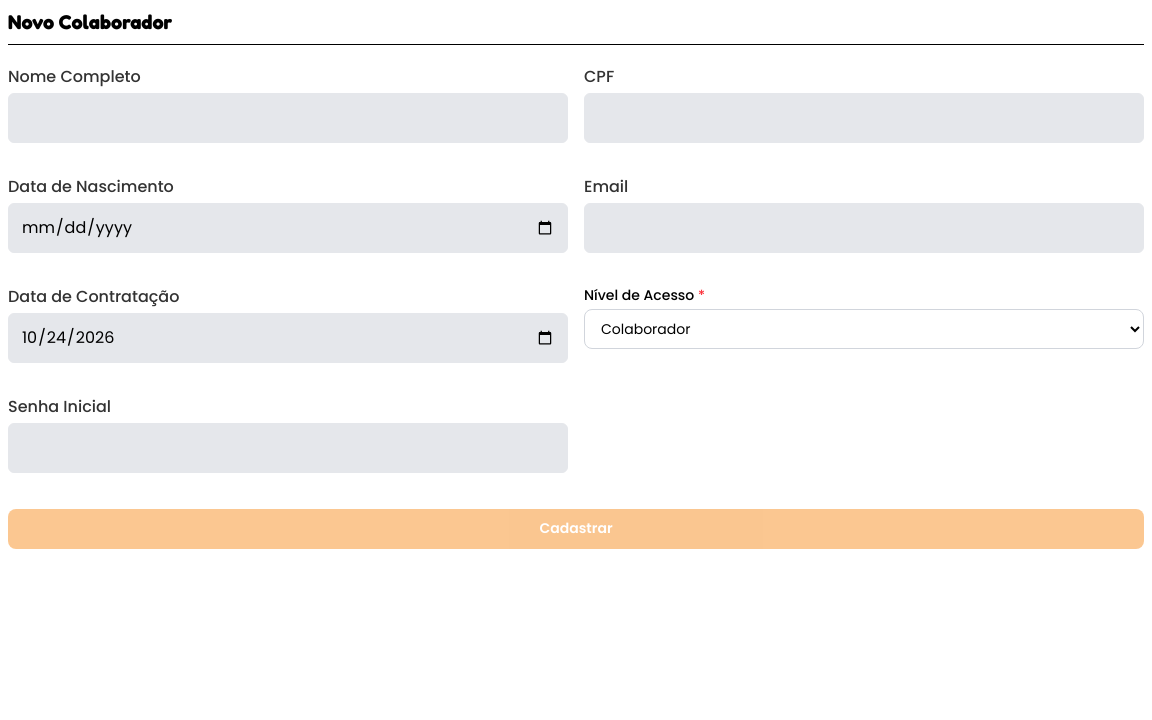
Test: CreateCoord (novo colaborador) › erro do back aparece como notificação e não fecha o formulário
The width and height of the screenshot is (1152, 720).
Type "Ana Maria Souza" into the field labelled "Nome Completo". click: (288, 118)
box: x1=8 y1=93 x2=568 y2=143
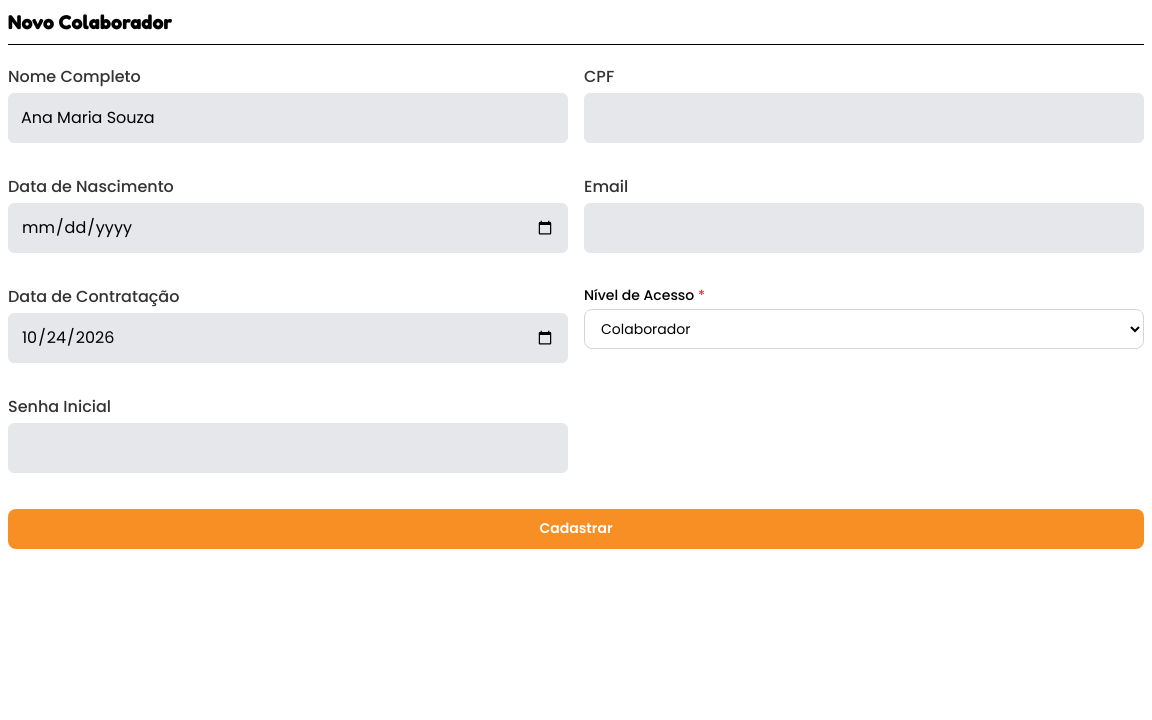
Type "123.456.789-01" into the field labelled "CPF". click: (864, 118)
box: x1=584 y1=93 x2=1144 y2=143
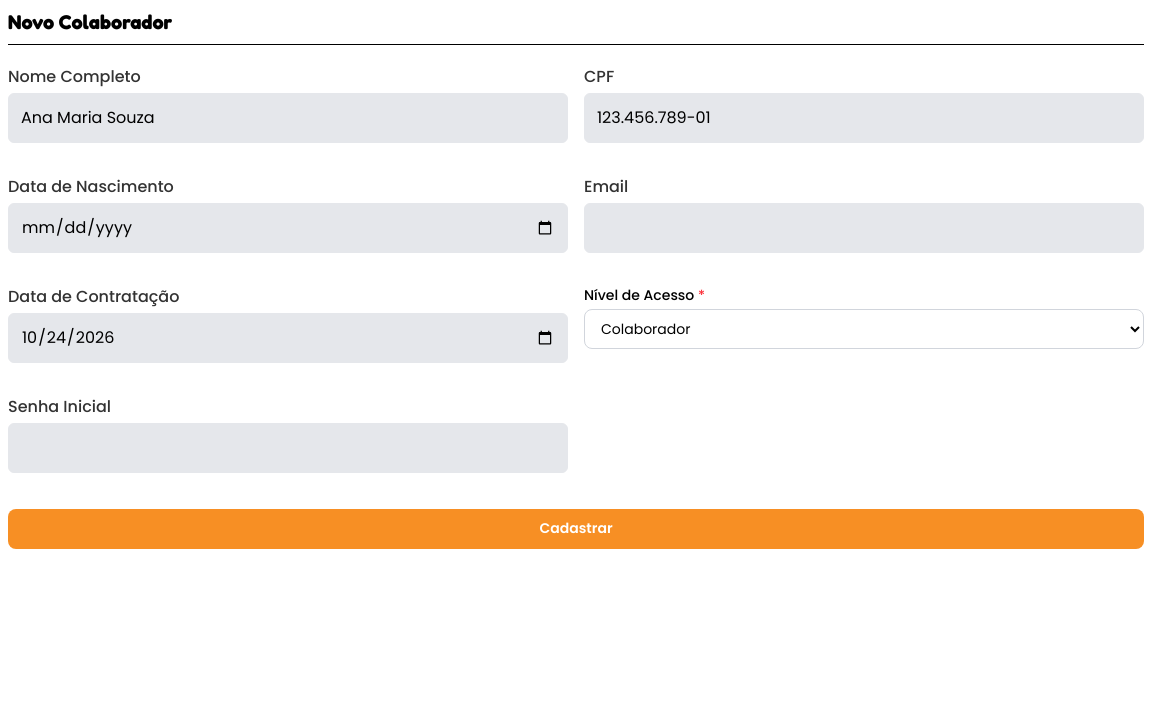
Type "1990-01-31" into the date field labelled "Data de Nascimento". click: (288, 228)
box: x1=8 y1=203 x2=568 y2=253
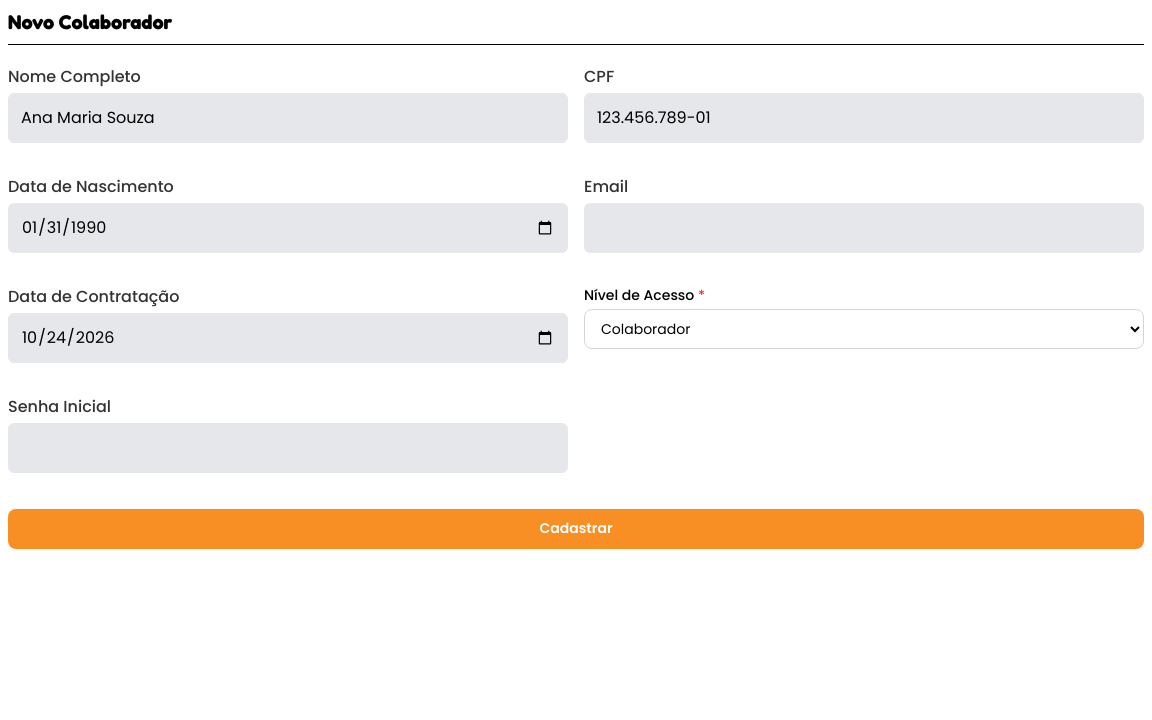
Type "ana@raizdobem.org" into the field labelled "Email". click: (864, 228)
box: x1=584 y1=203 x2=1144 y2=253
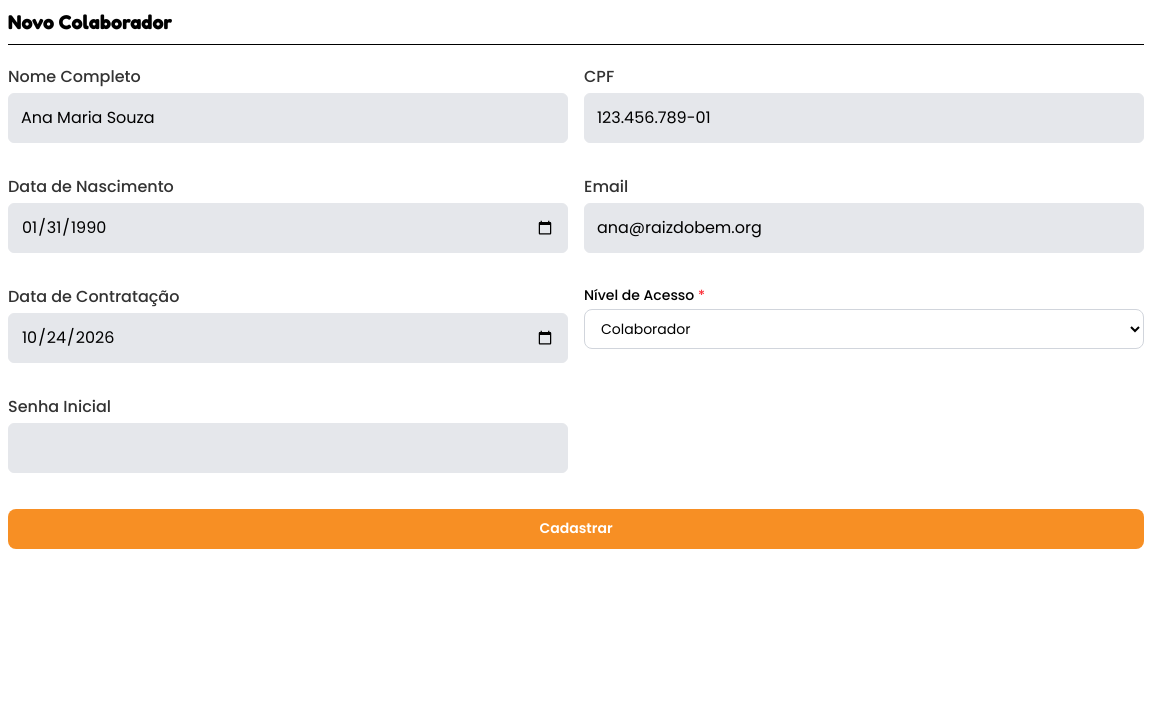
Type "Senha@1234" into the password field labelled "Senha Inicial". click: (288, 448)
box: x1=8 y1=423 x2=568 y2=473
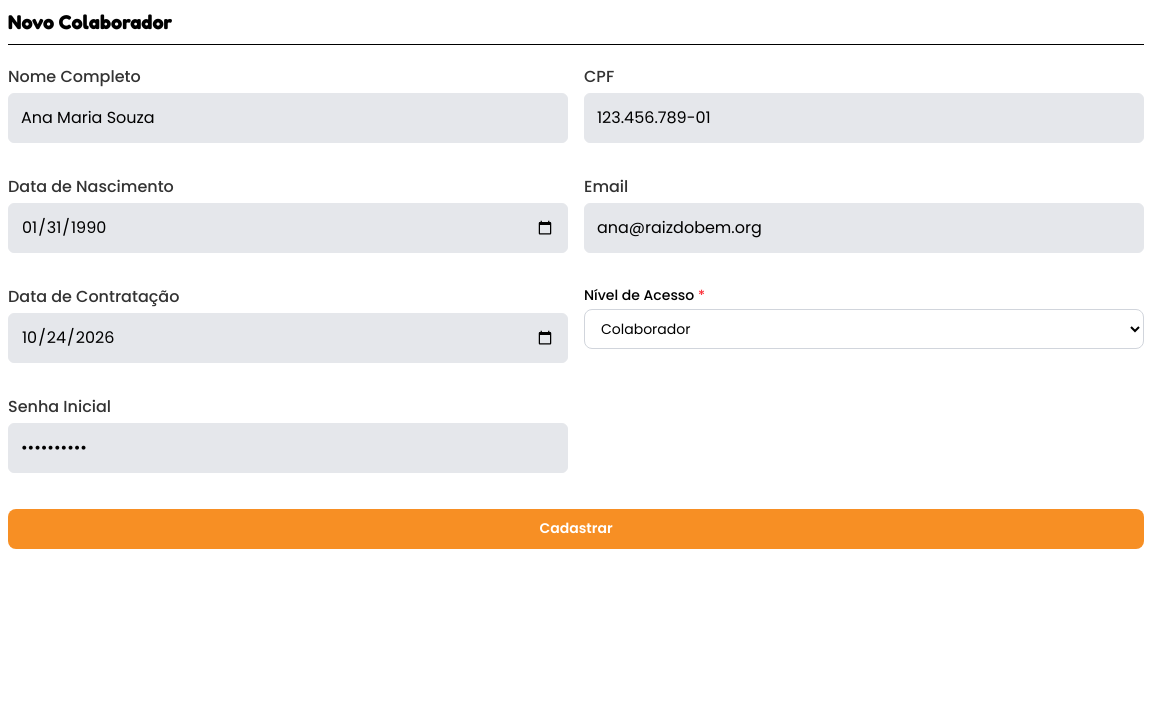
Click the button "Cadastrar". click: (576, 529)
box: x1=8 y1=509 x2=1144 y2=549
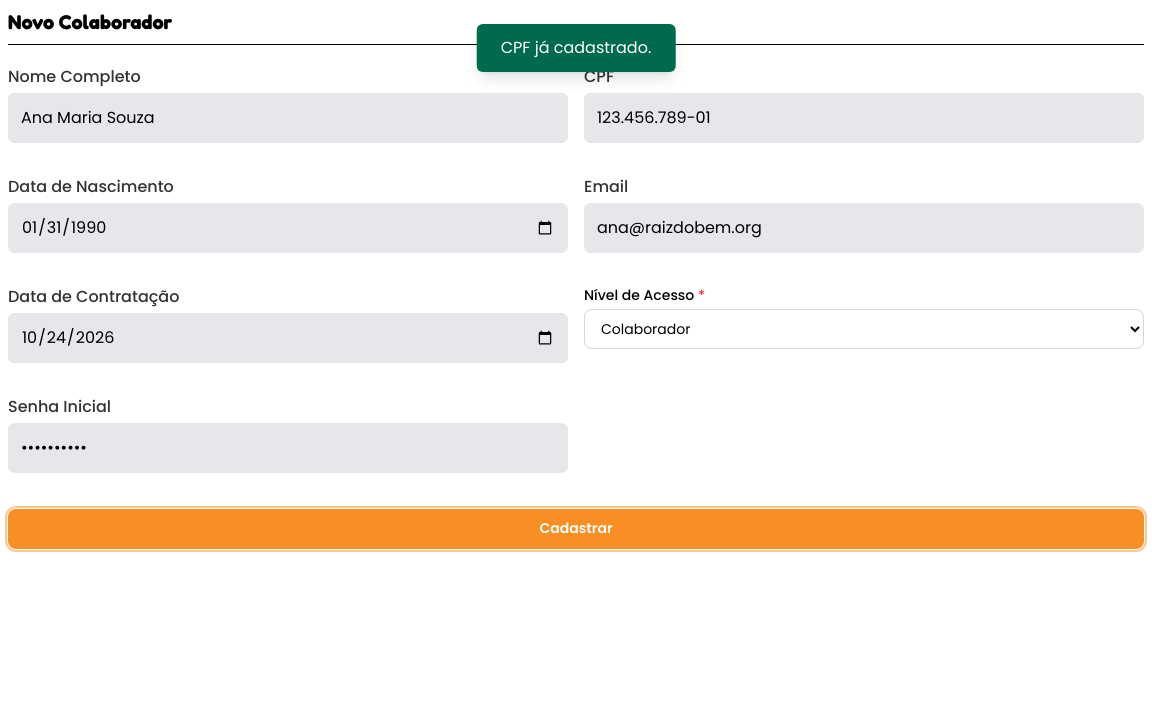
expect the text "CPF já cadastrado." is shown: met, box x1=477 y1=24 x2=675 y2=72
